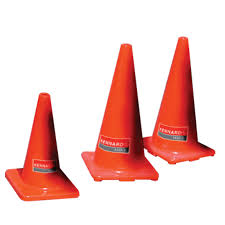cones: (83, 42, 159, 183), (5, 92, 79, 201), (150, 38, 213, 163)
